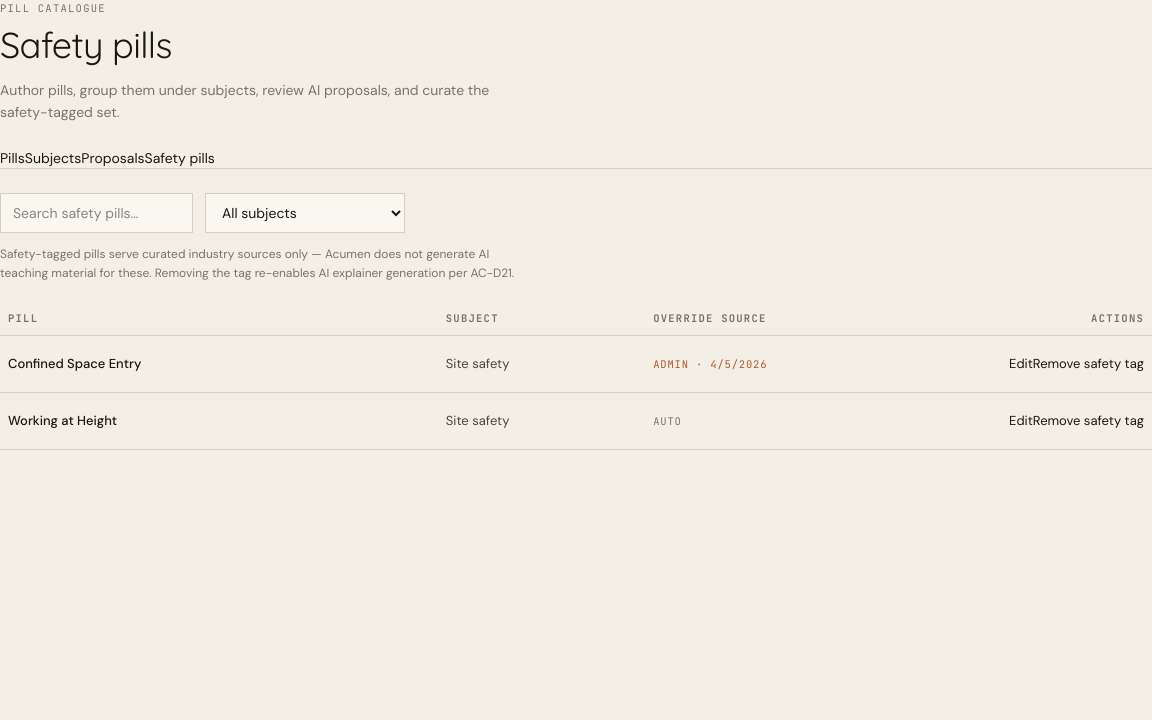
it: safety tab — remove safety tag confirmation flow › Cancel closes the modal without firing PATCH
Expected: the text "Confined Space Entry" is shown, [0, 335, 438, 392]
Click the button "Remove safety tag" in the row of "Confined Space Entry". click: (1088, 364)
box: [1033, 346, 1144, 382]
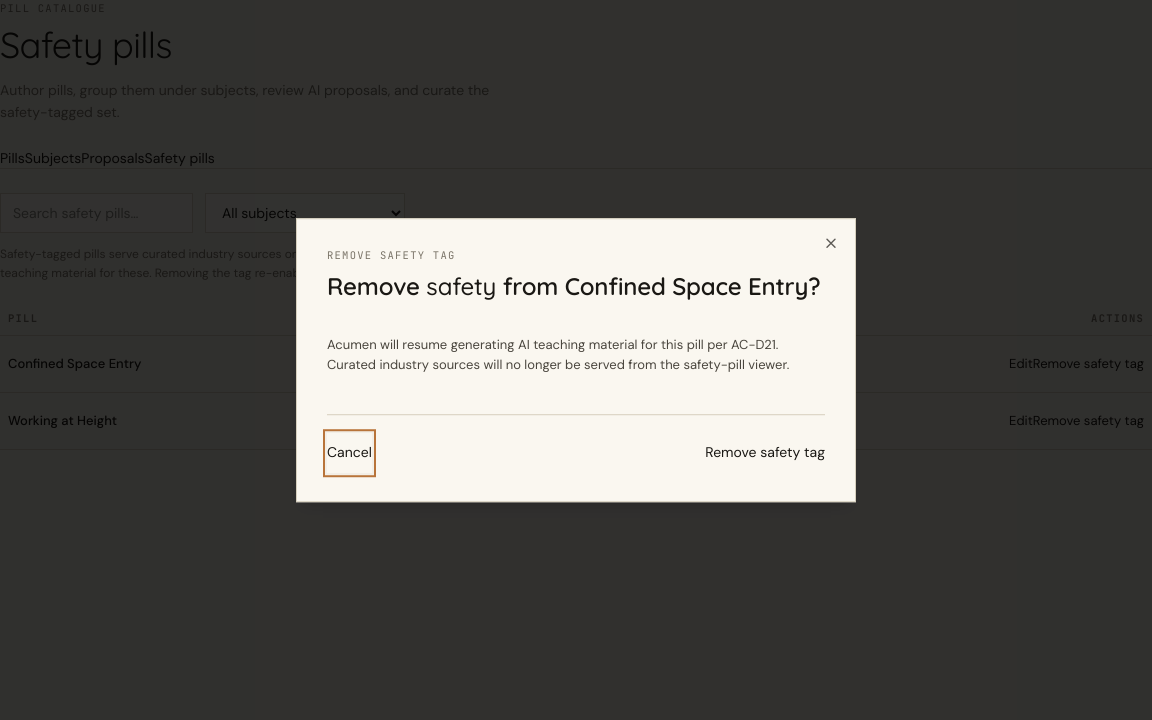
Expected: the button with test id "safety-untag-confirm" is shown, [705, 433, 825, 473]
Click the button "Cancel". click: (349, 453)
box: [327, 433, 372, 473]
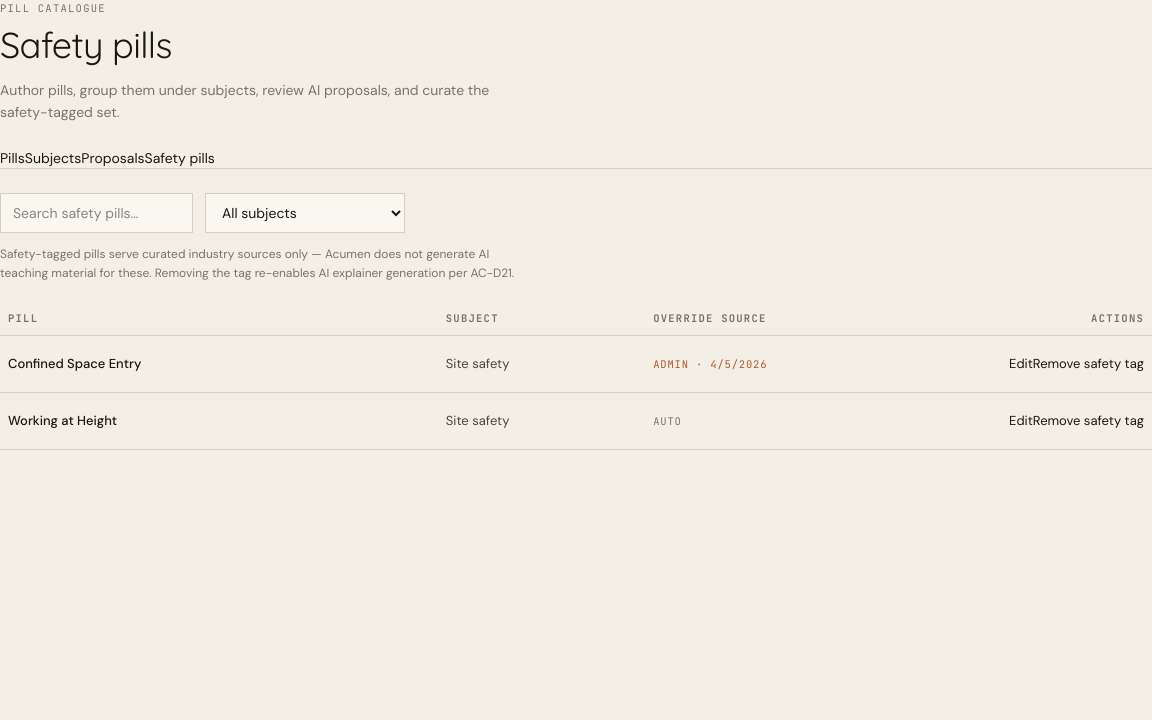
Expected: the button with test id "safety-untag-confirm" is gone
